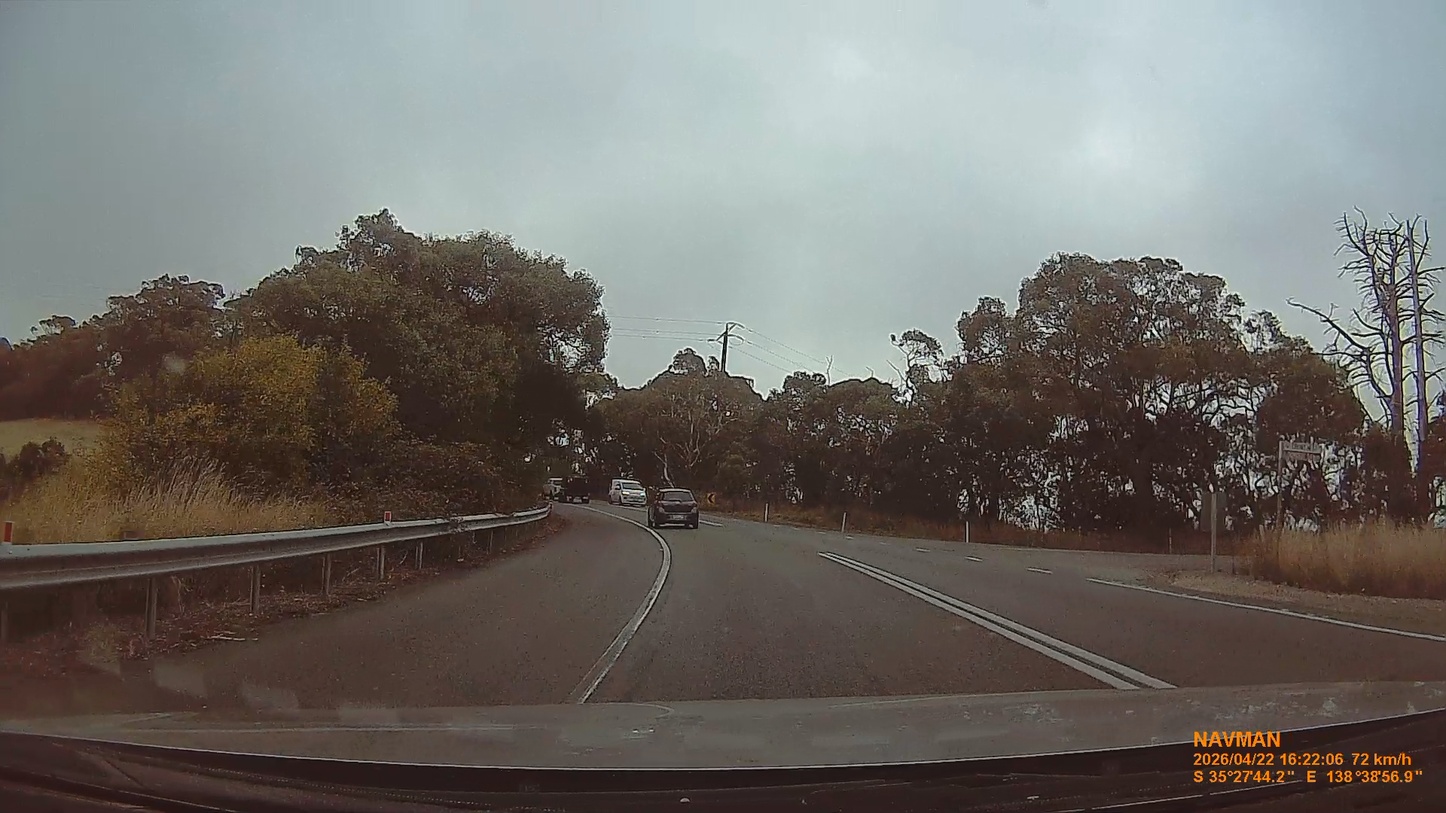road barriers: (0, 502, 552, 641)
